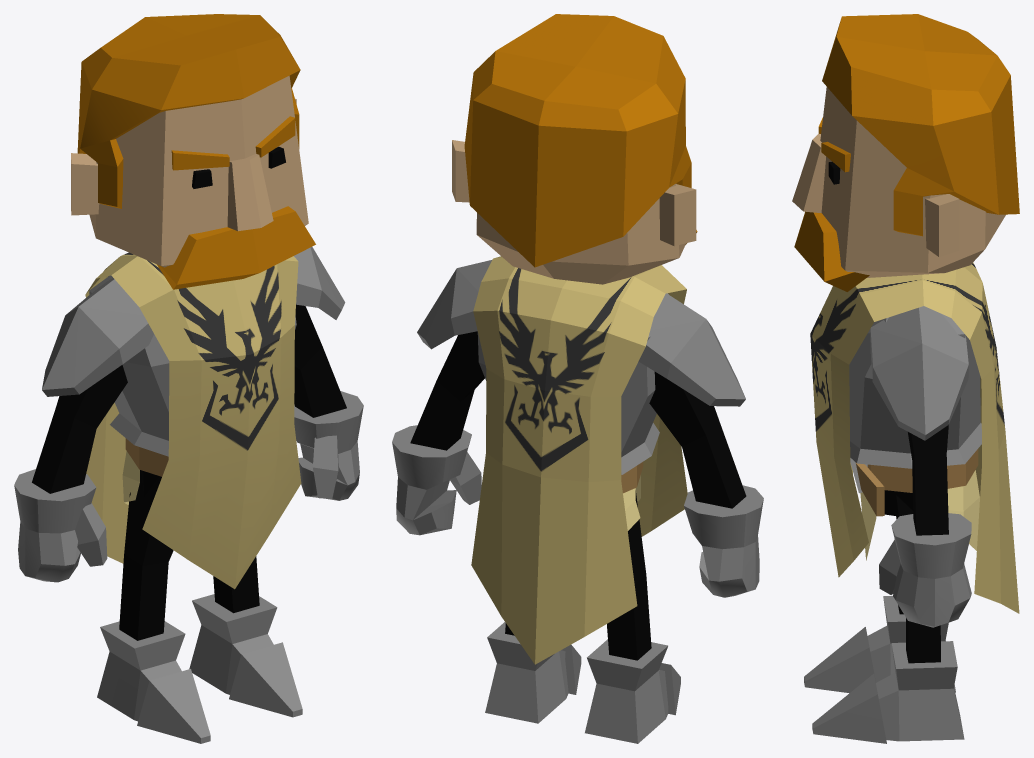
Rendered from questgiver.glb.
3 views of the same model, side by side, from view 1: azimuth 30°, elevation 25°; view 2: azimuth 150°, elevation 25°; view 3: azimuth 270°, elevation 25° (orthographic).
Parts seen in each view (by area): view 1: Soldier_72; view 2: Soldier_72; view 3: Soldier_72.
Part boxes in pixels (x1,y1,x2,y2): Soldier_72: (14, 14, 363, 743); Soldier_72: (392, 14, 763, 743); Soldier_72: (792, 14, 1019, 743).
Size of the model in its own units: 0.8466 by 1.54 by 0.4731.
Materials: 7 (1 with a texture image).
